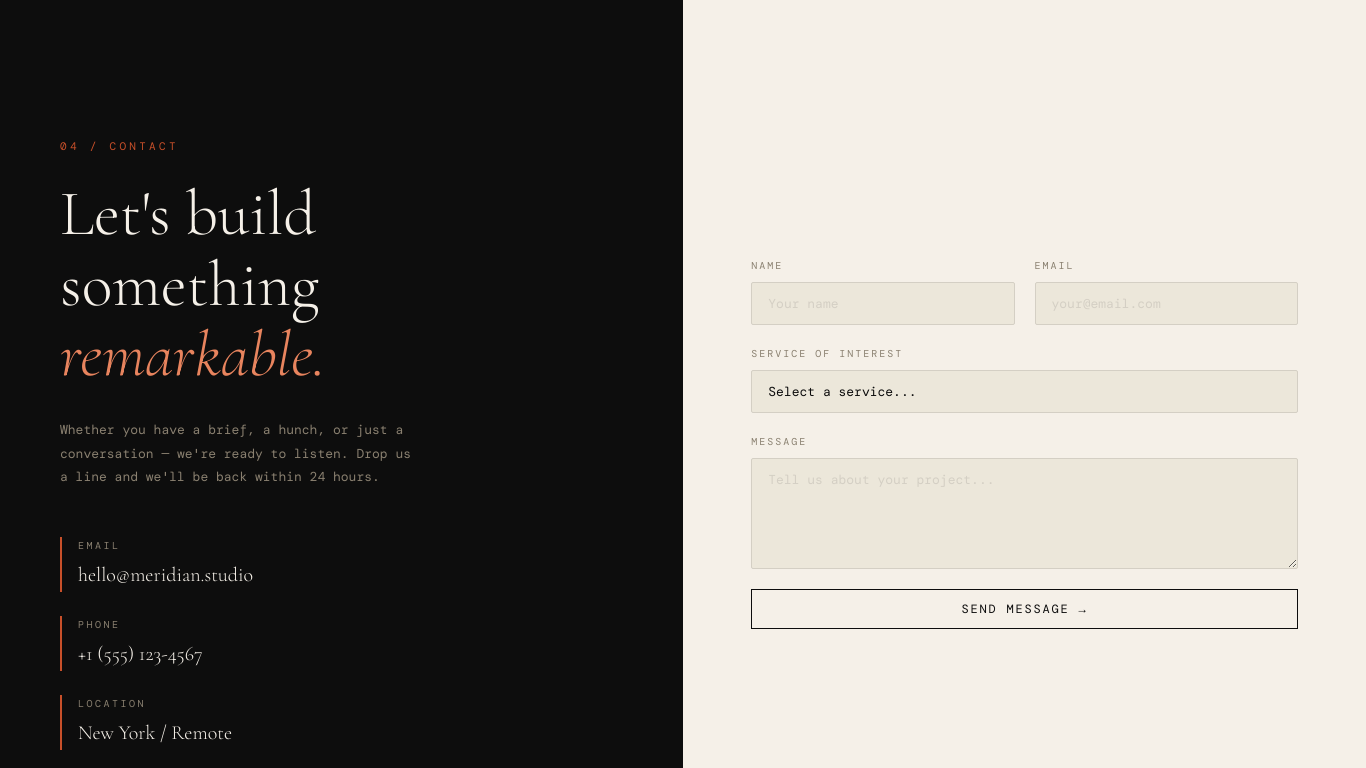
Test: ContactSection › shows success state after submission
Type "Jane" into the field labelled "Name" at (883, 304), box left=751, top=282, right=1014, bottom=325
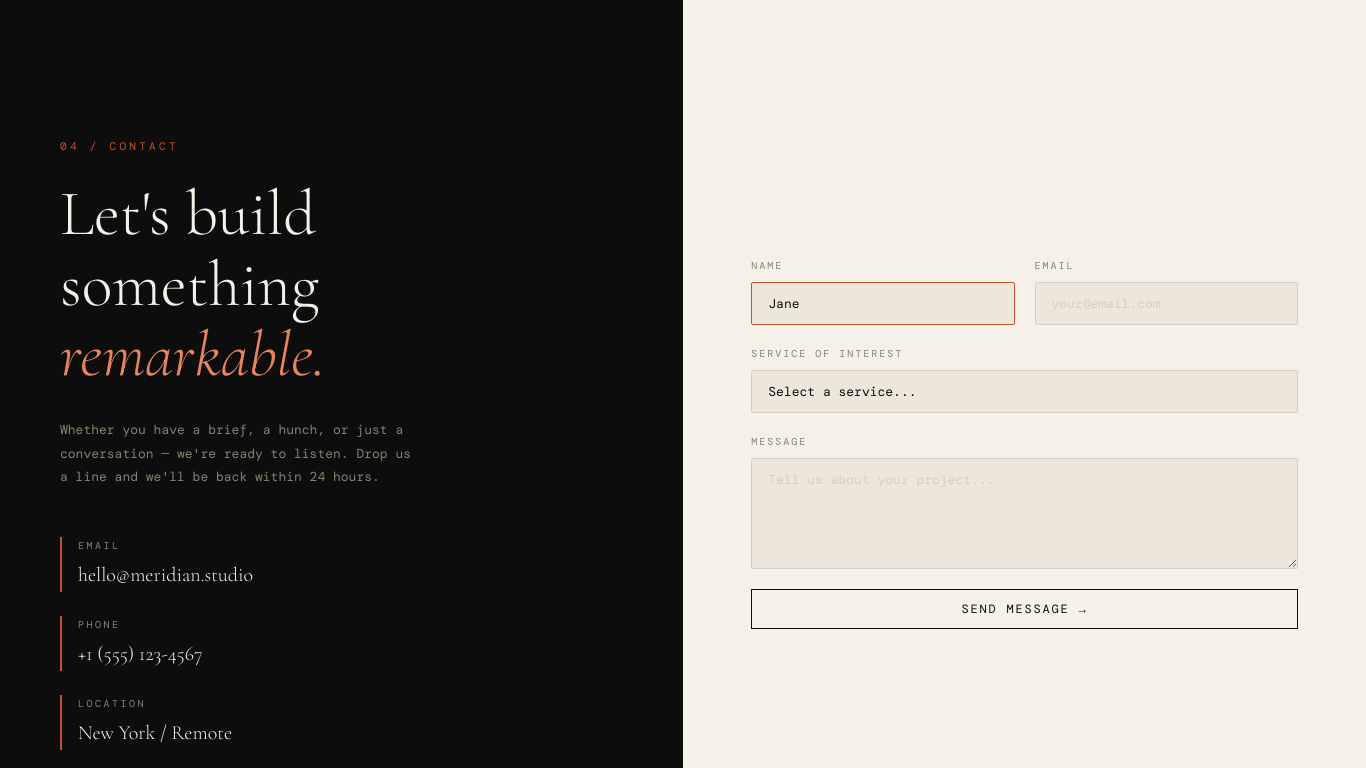
Type "jane@example.com" into the field labelled "Email" at (1166, 304), box left=1034, top=282, right=1298, bottom=325
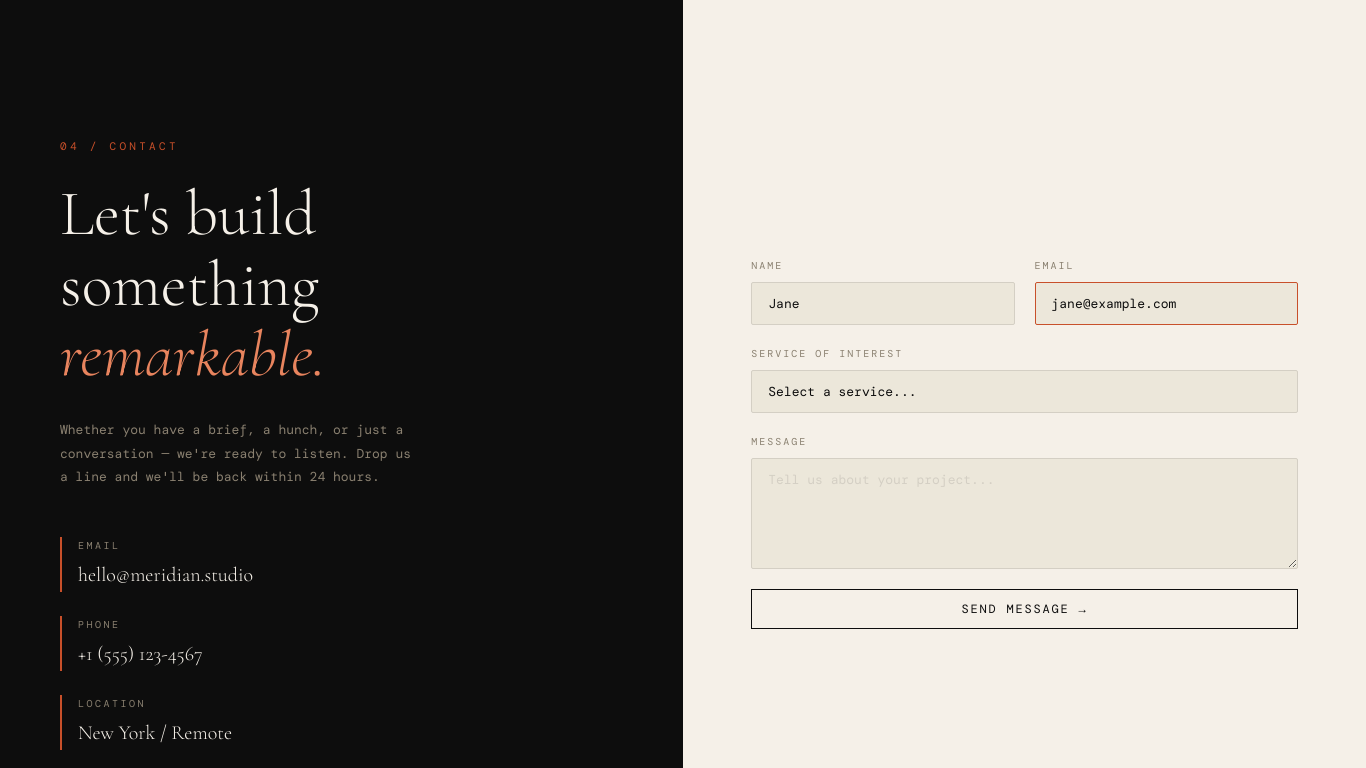
Type "Hello" into the text box labelled "Message" at (1024, 514), box left=751, top=458, right=1298, bottom=569
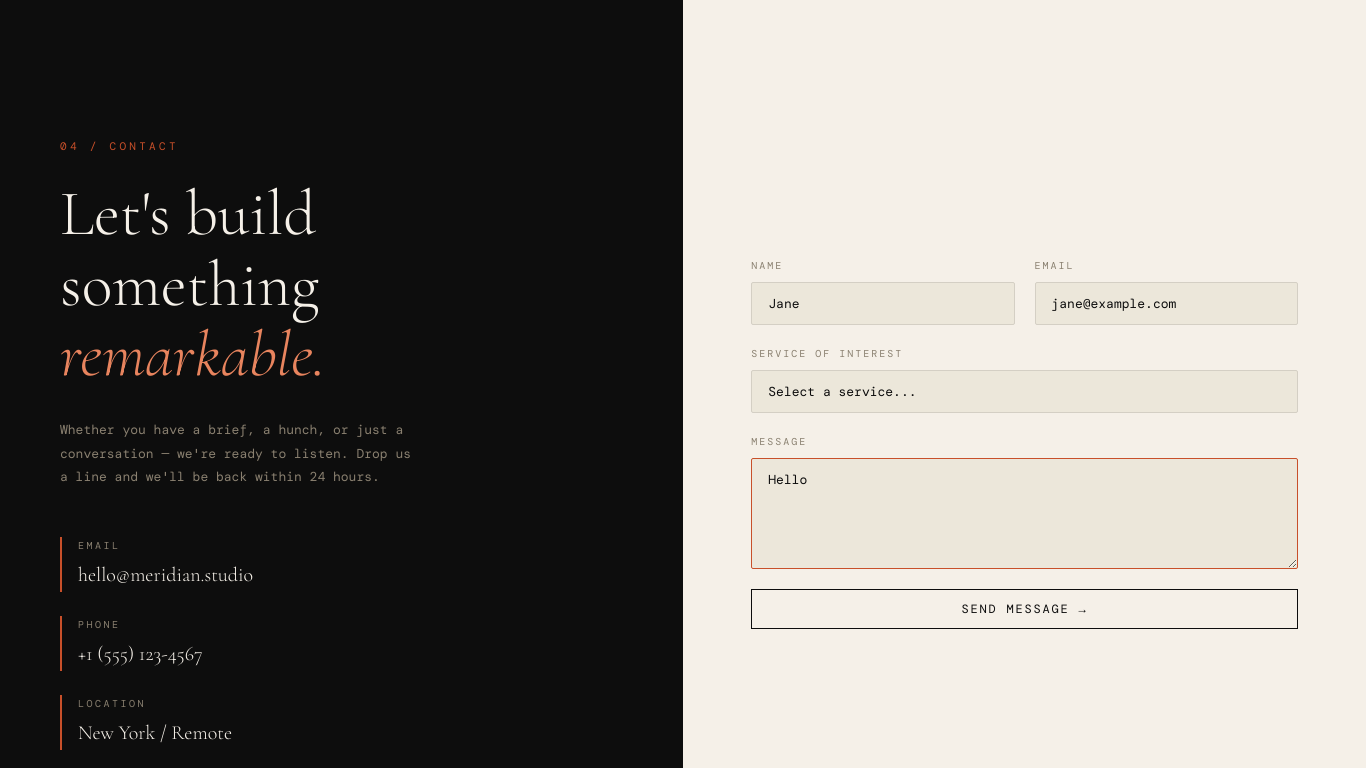
Submit the form "Name Email Service of interest Message Send Message →", box left=751, top=257, right=1298, bottom=629
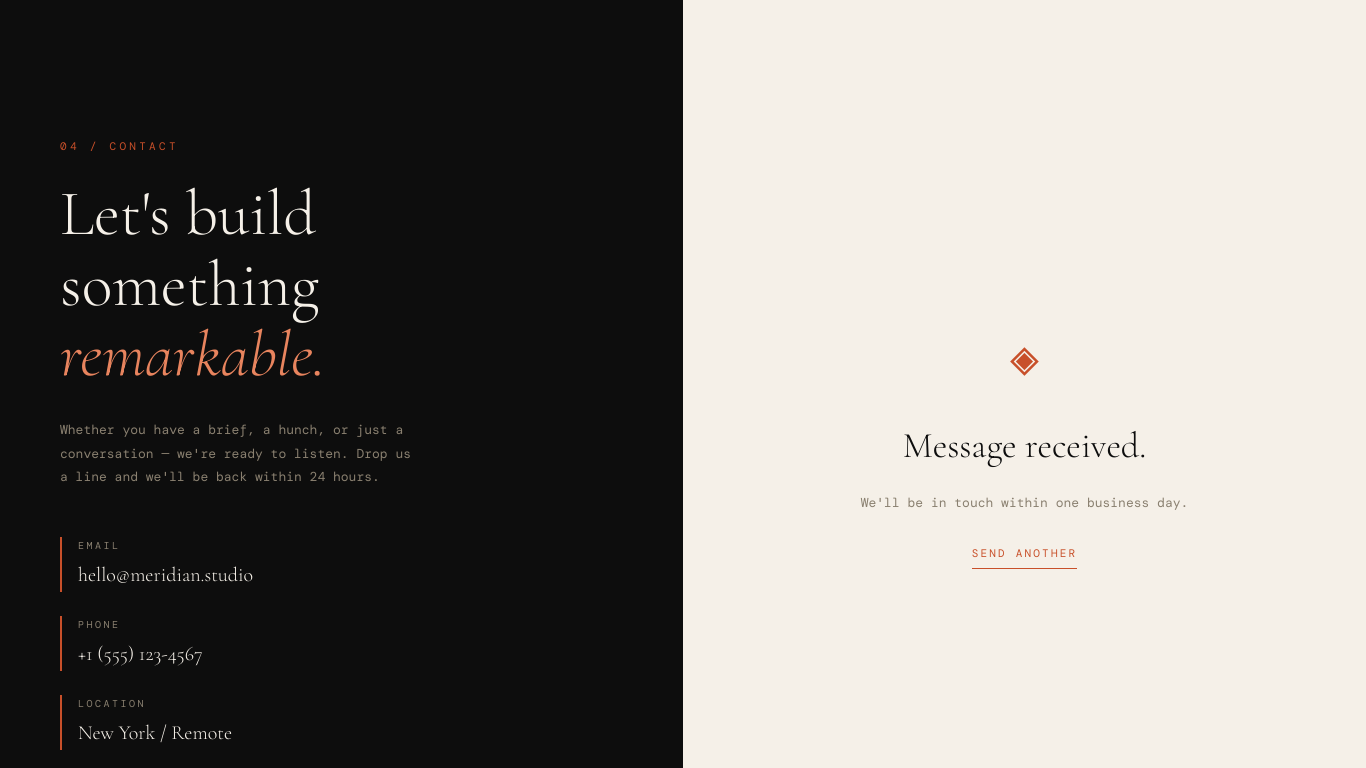
Check: the heading "Message received." is shown, box left=903, top=415, right=1146, bottom=476
